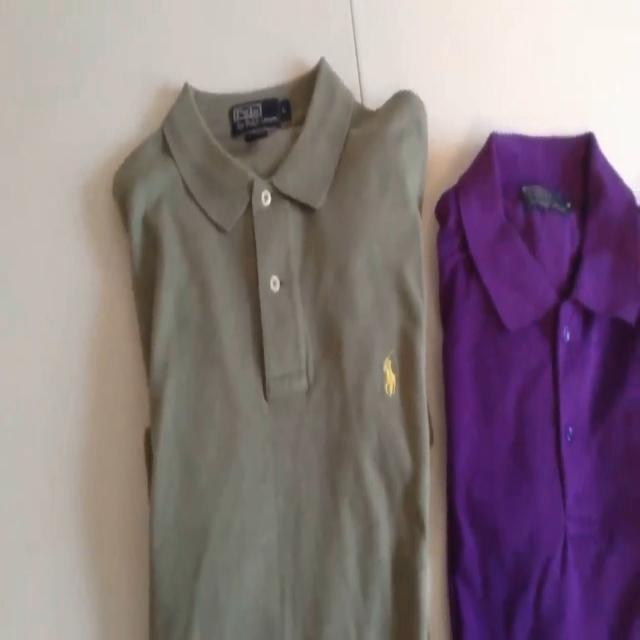Shirt: (111, 53, 435, 640), (435, 126, 640, 640)
